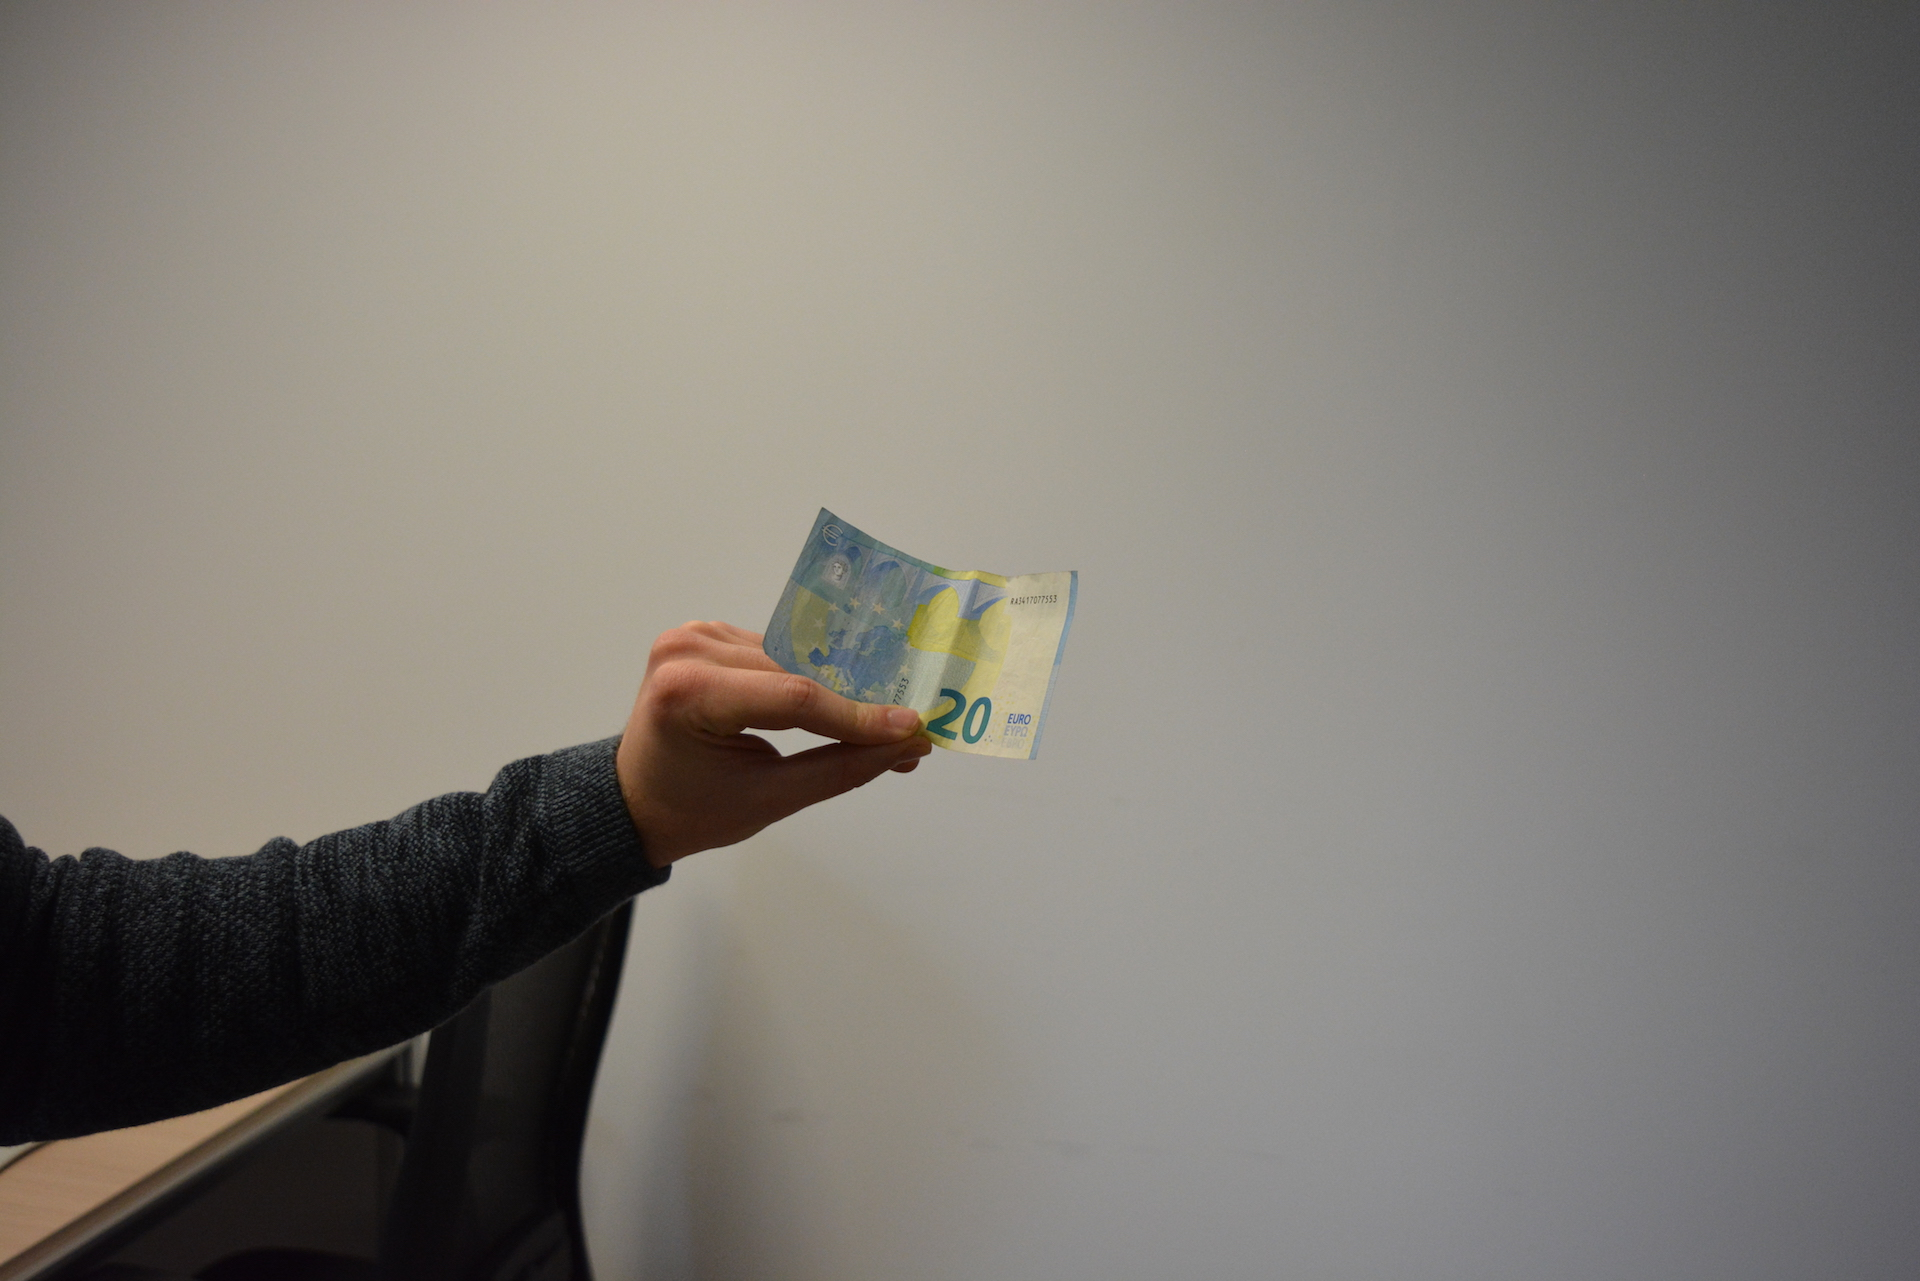billete: (761, 505, 1079, 762)
